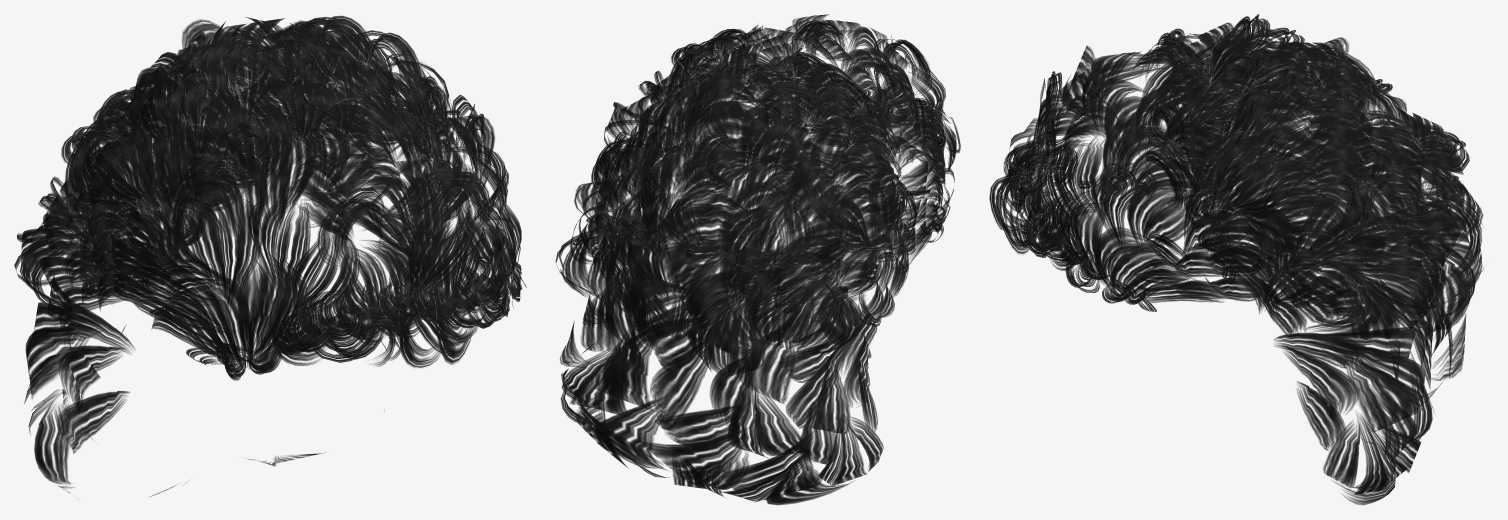
File: Round_Curly_MulletModern.glb
The picture shows the model from 3 angles, left to right: view 1: azimuth 30°, elevation 25°; view 2: azimuth 150°, elevation 25°; view 3: azimuth 270°, elevation 25°; orthographic projection. The views are drawn at different scales.
Visible parts, largest first — view 1: s4studio_mesh_3.001_geom.021; view 2: s4studio_mesh_3.001_geom.021; view 3: s4studio_mesh_3.001_geom.021.
Part boxes in pixels (left/top/right/bottom): s4studio_mesh_3.001_geom.021: left=14, top=15, right=526, bottom=496; s4studio_mesh_3.001_geom.021: left=555, top=14, right=960, bottom=505; s4studio_mesh_3.001_geom.021: left=989, top=14, right=1483, bottom=505.
Bounding box in the file's own units: 0.2026 × 0.2587 × 0.2704.
1 material, 1 textured.
